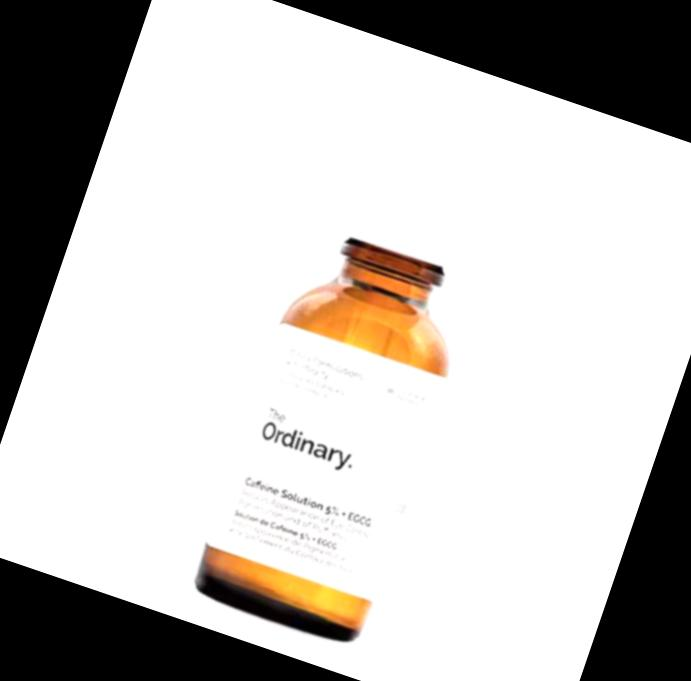cosmetic: (186, 60, 539, 647)
